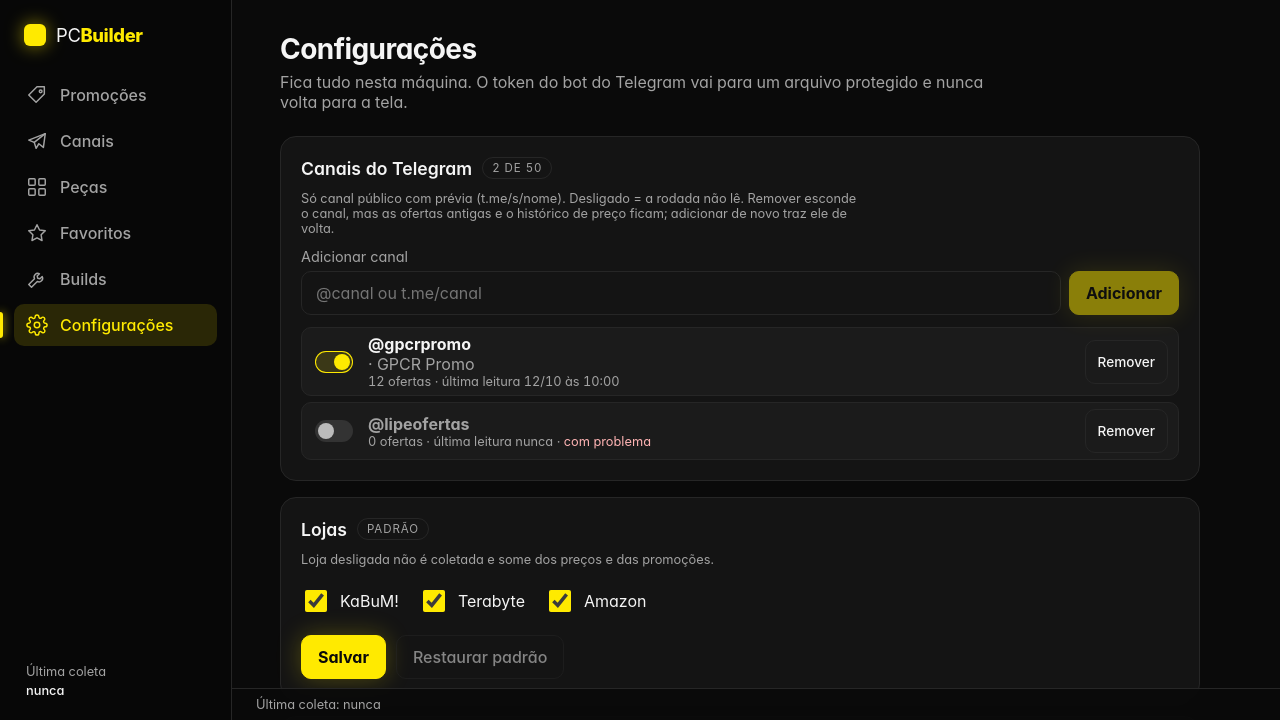
Test case: Configurações: canais › adicionar: sucesso entra na lista
This screenshot has width=1280, height=720.
Expected: the text "@gpcrpromo" is shown, x1=368 y1=334 x2=471 y2=354
Step 1. Type "https://t.me/NovoCanal" into the field labelled "Adicionar canal" → (681, 293), box x1=301 y1=271 x2=1061 y2=315
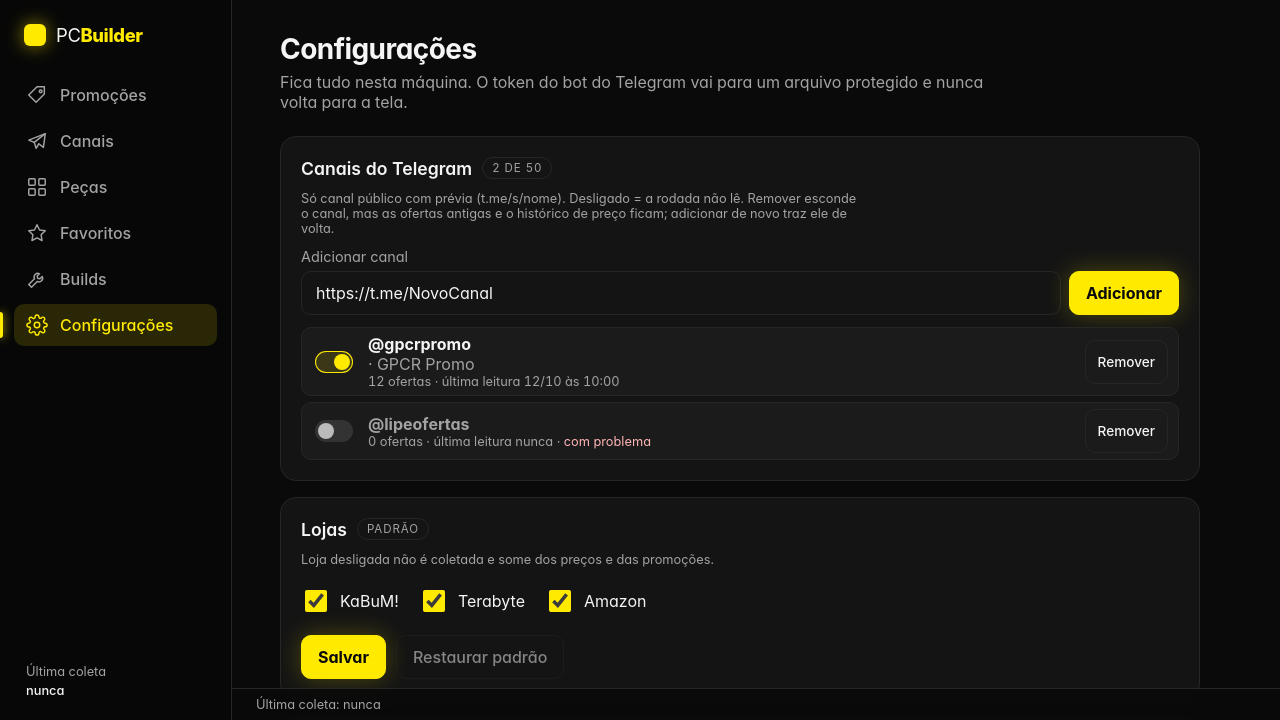
Step 2. Click the button "Adicionar" → (1124, 293), box x1=1069 y1=271 x2=1179 y2=315
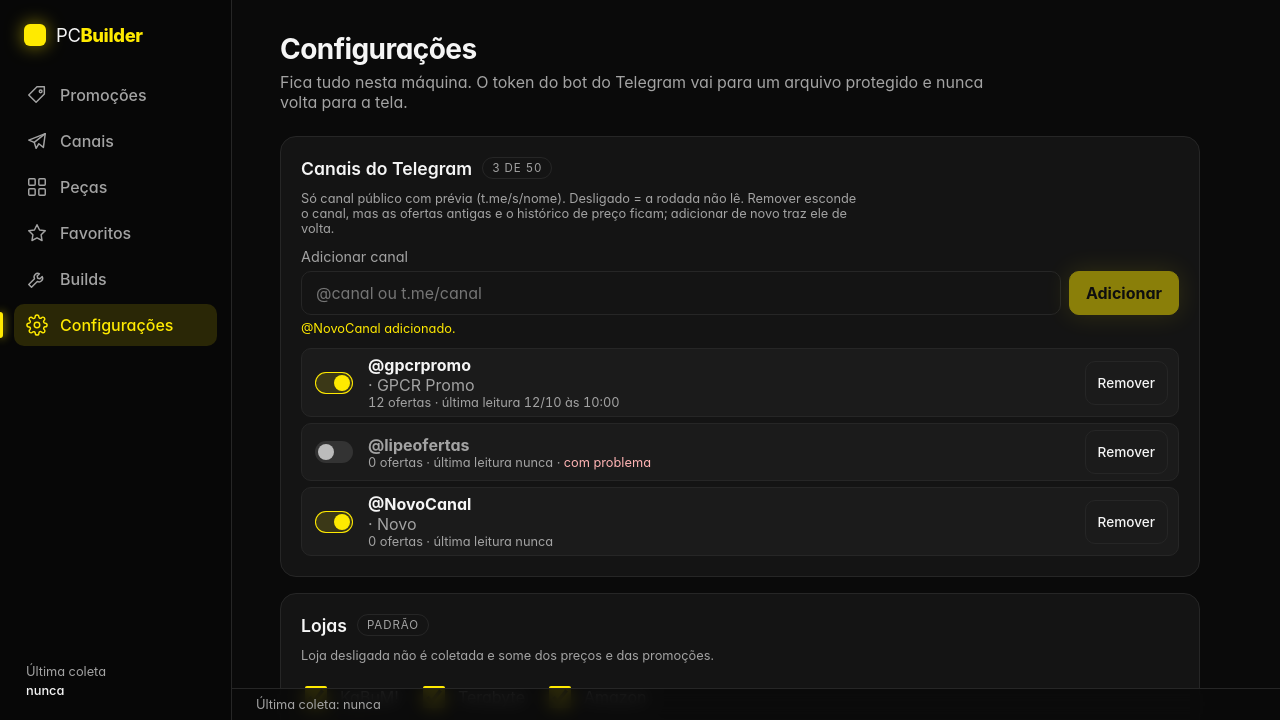
Expected: the text "@NovoCanal" is shown, x1=368 y1=494 x2=471 y2=514
Expected: the message reads "@NovoCanal adicionado.", x1=301 y1=321 x2=455 y2=336
